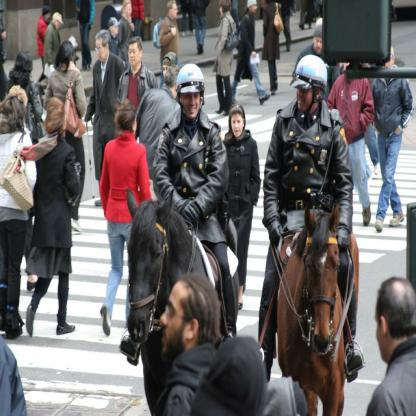Helmet: (290, 53, 327, 132), (175, 62, 205, 119)
